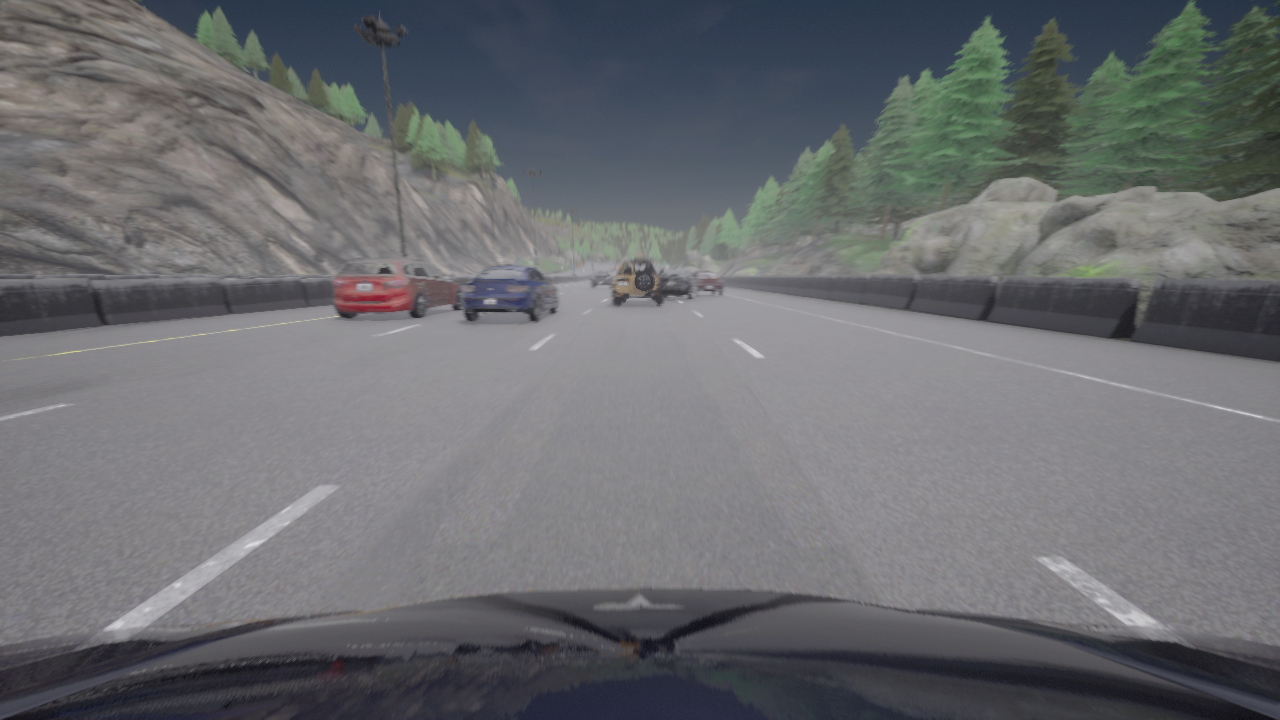cyclist: (0, 588, 1279, 719), (333, 257, 462, 318), (462, 265, 558, 321), (612, 258, 662, 305), (652, 269, 698, 299), (693, 271, 723, 295), (591, 272, 614, 288)
